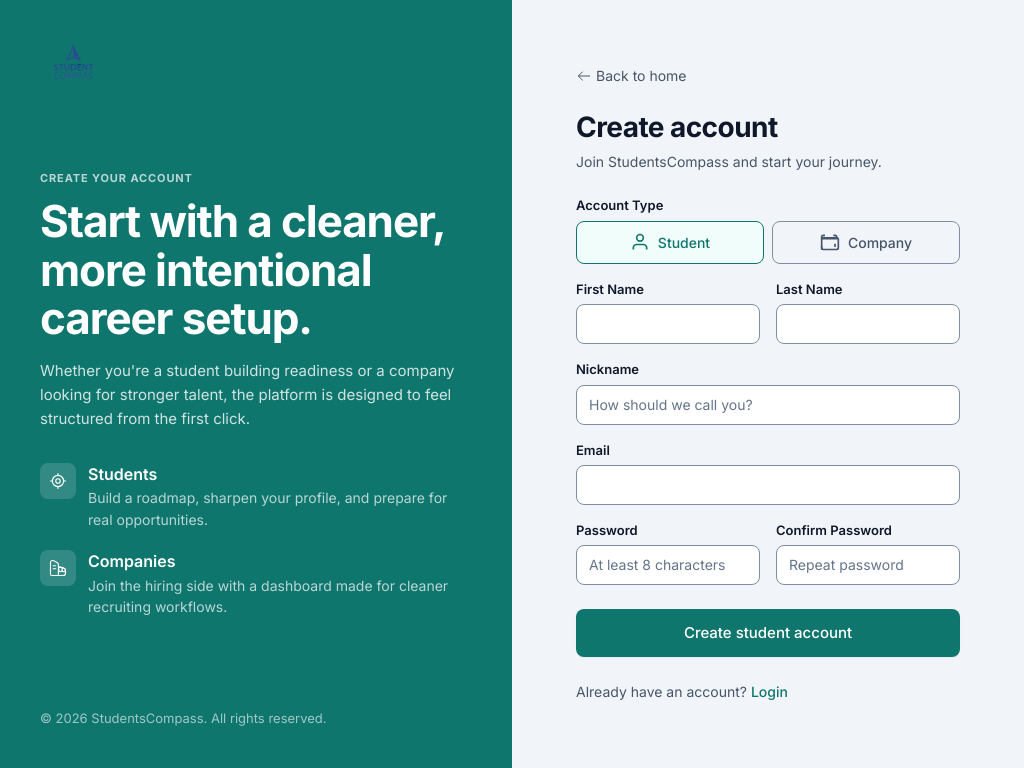
it: RegisterPage › registers a student account and shows the success message
In the field labelled "First Name": coordinates (668, 324) x1=576 y1=304 x2=760 y2=344, type "Ada"
In the field labelled "Last Name": coordinates (868, 324) x1=776 y1=304 x2=960 y2=344, type "Lovelace"
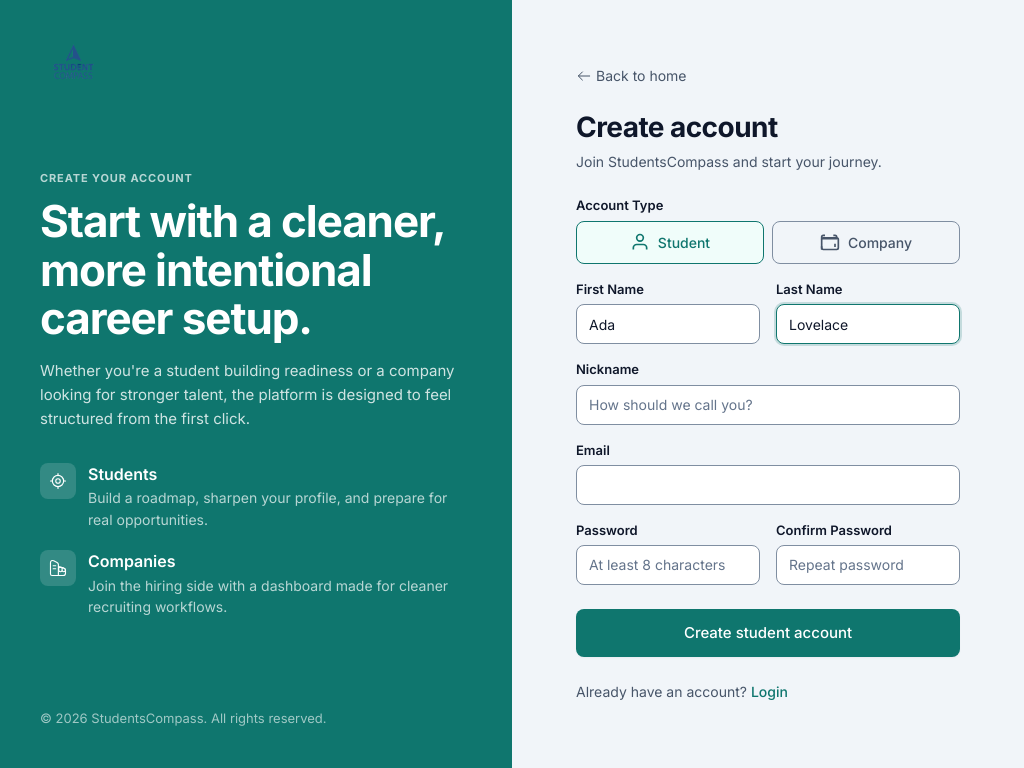
In the field labelled "Nickname": coordinates (768, 405) x1=576 y1=385 x2=960 y2=425, type "ada"
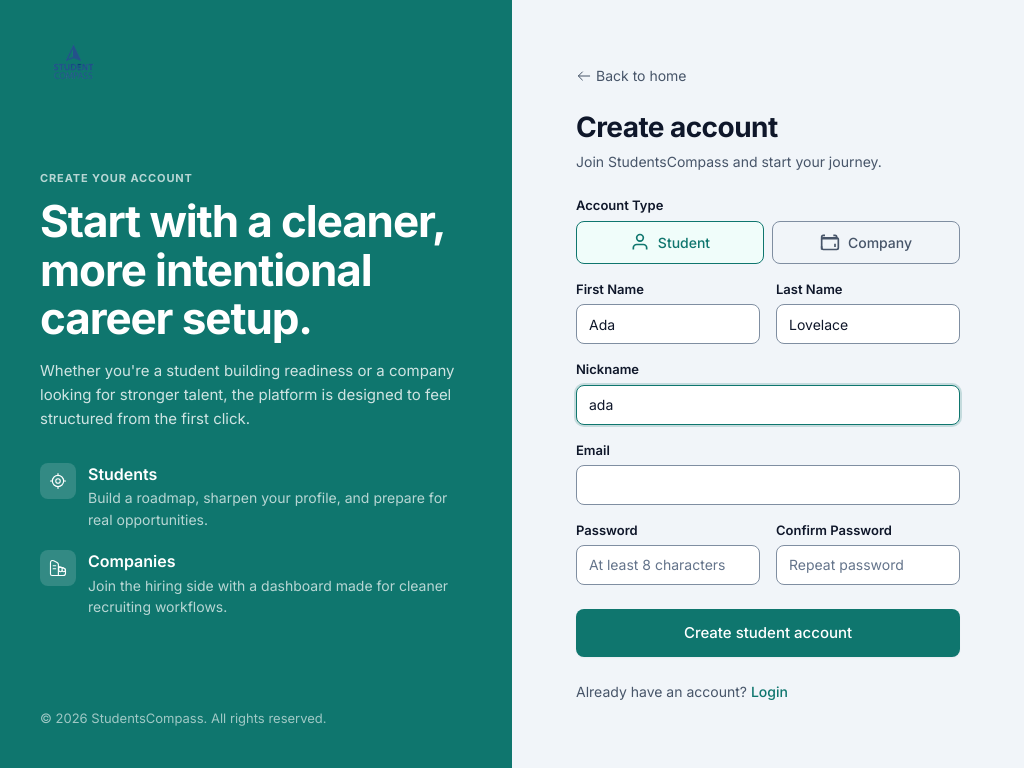
In the field labelled "Email": coordinates (768, 485) x1=576 y1=465 x2=960 y2=505, type "ada@example.invalid"
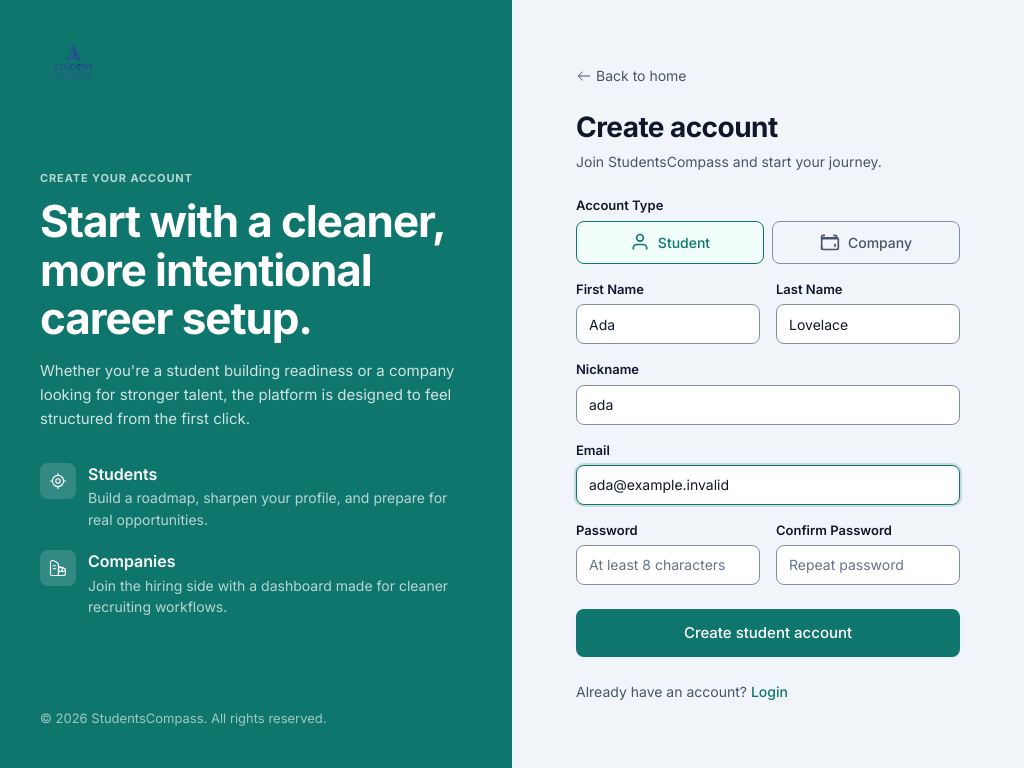
In the password field labelled "Password": coordinates (668, 565) x1=576 y1=545 x2=760 y2=585, type "password123"
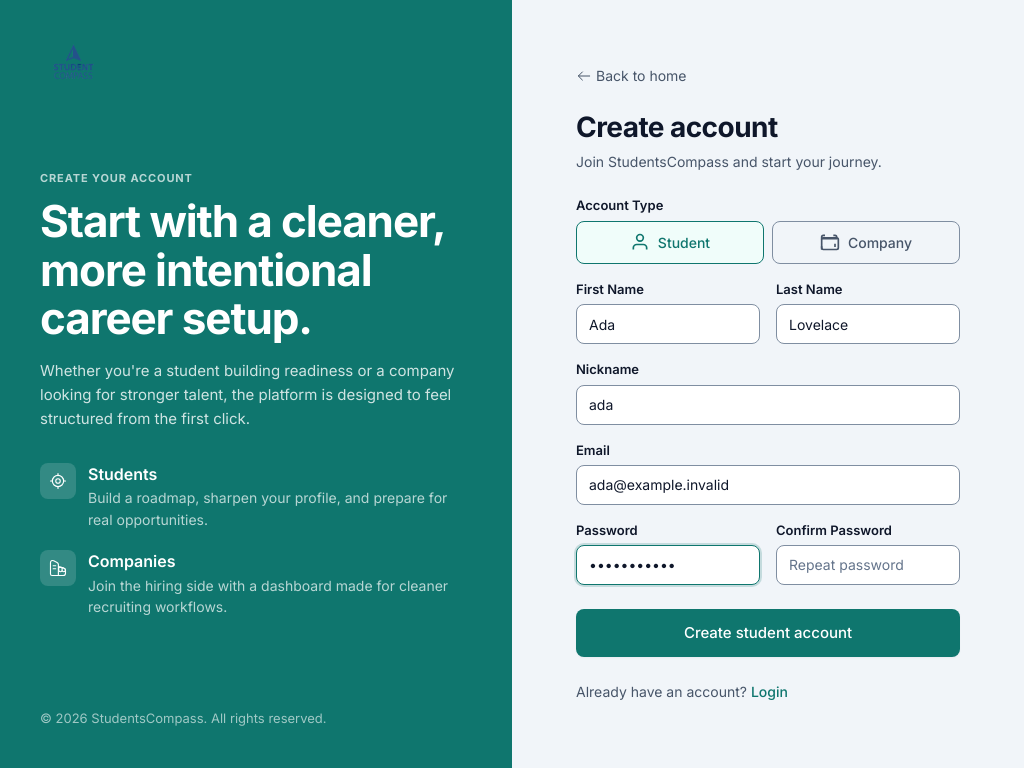
In the password field labelled "Confirm Password": coordinates (868, 565) x1=776 y1=545 x2=960 y2=585, type "password123"
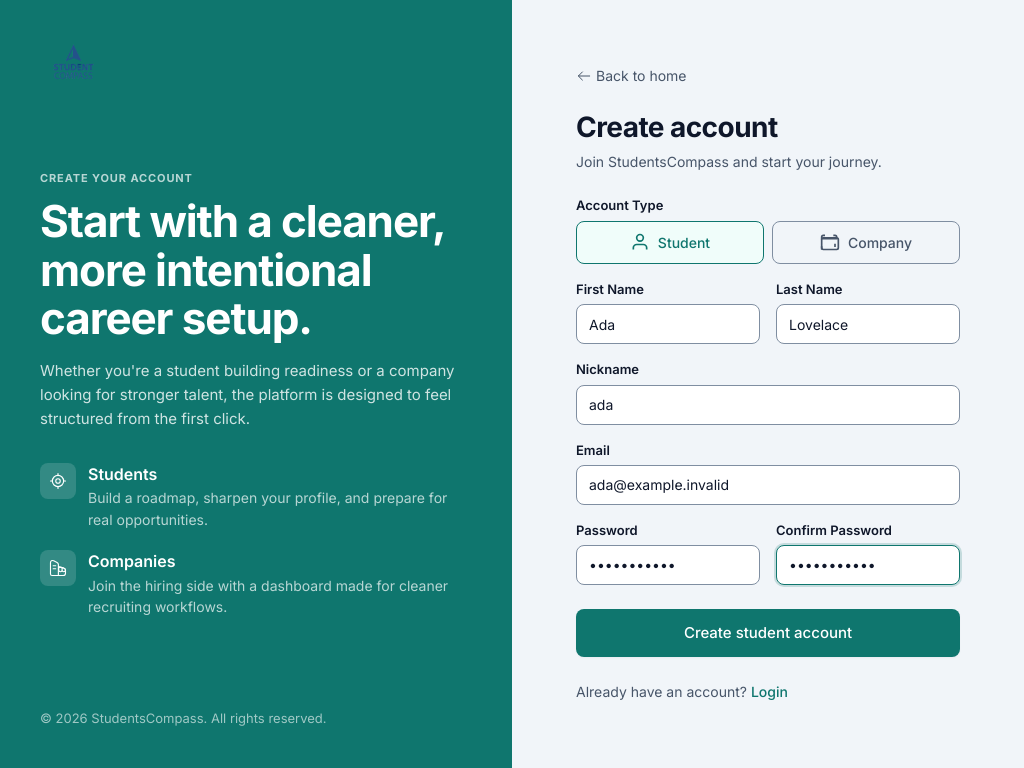
Click the button "Create student account": coordinates (768, 633) x1=576 y1=609 x2=960 y2=657
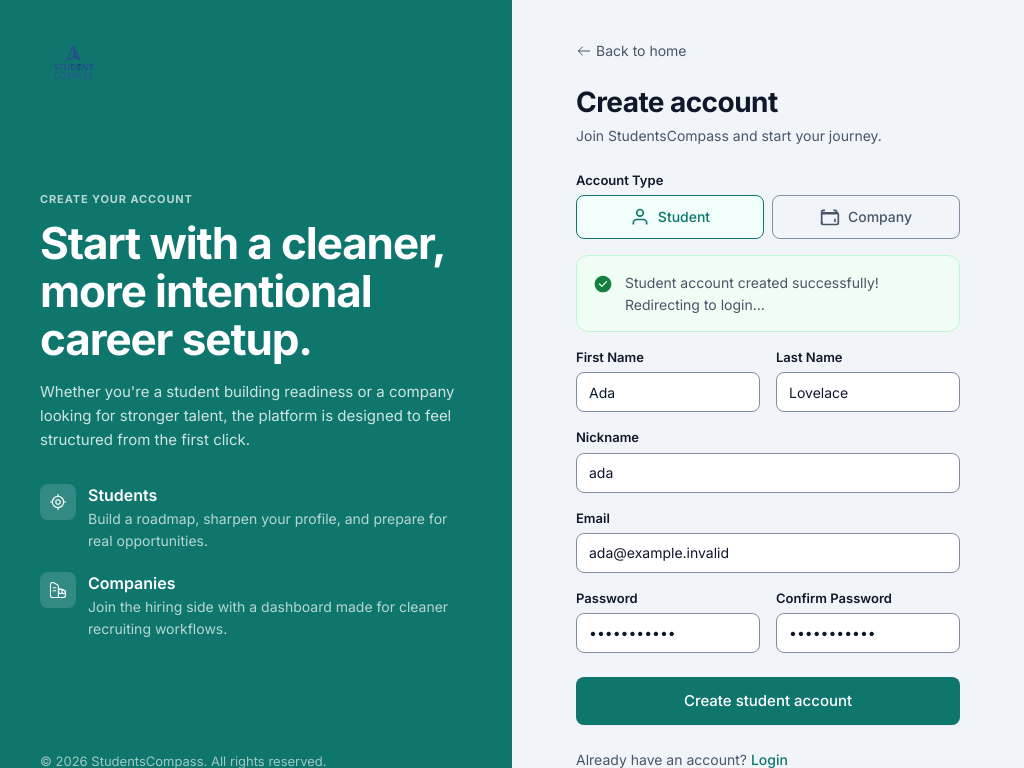
Check: the text "Student account created successfully" is shown, box x1=625 y1=274 x2=879 y2=312
